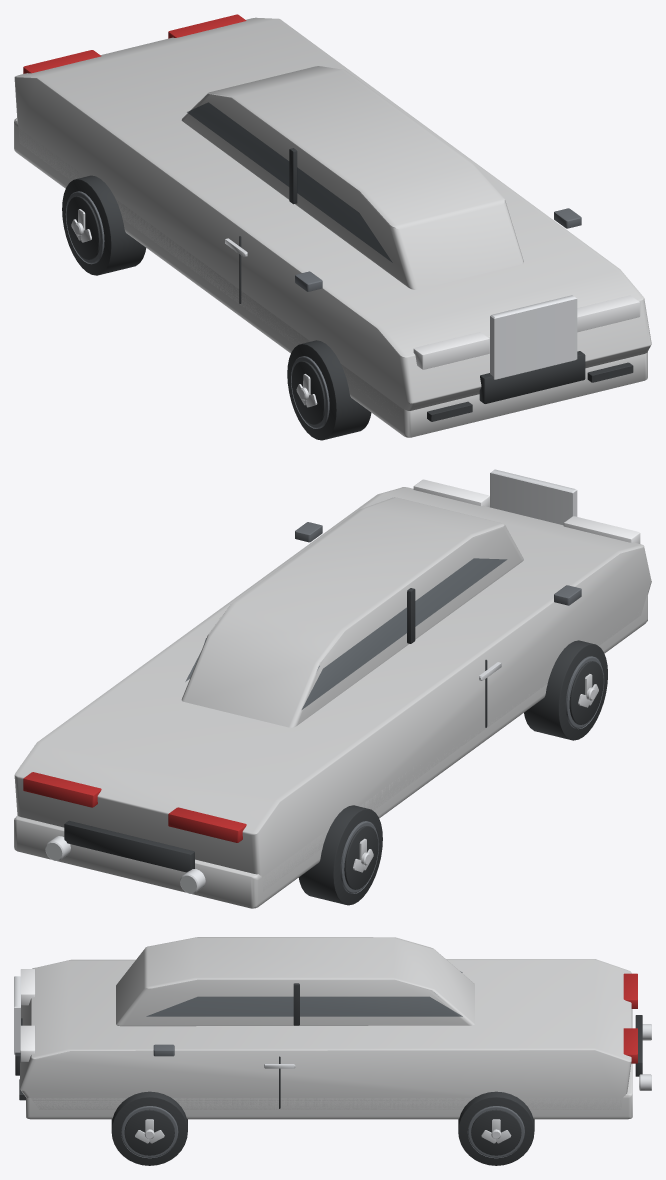
Rendered from crownline-lux.glb.
The picture shows the model from 3 angles, top to bottom: view 1: azimuth 30°, elevation 25°; view 2: azimuth 150°, elevation 25°; view 3: azimuth 270°, elevation 25°; orthographic projection. The views are drawn at different scales.
Visible parts, largest first — view 1: paint, trim, rim, glass, head, accent, tail; view 2: paint, trim, rim, glass, tail, accent, head; view 3: paint, trim, glass, rim, accent, head, tail.
Boxes of the visible parts, left/top/right/bottom form: paint: left=14, top=17, right=651, bottom=437; trim: left=62, top=148, right=633, bottom=440; rim: left=71, top=209, right=577, bottom=407; glass: left=187, top=102, right=392, bottom=262; head: left=413, top=295, right=640, bottom=369; accent: left=65, top=191, right=581, bottom=428; tail: left=23, top=14, right=246, bottom=73; paint: left=14, top=487, right=651, bottom=908; trim: left=64, top=588, right=607, bottom=905; rim: left=45, top=469, right=598, bottom=893; glass: left=185, top=558, right=506, bottom=709; tail: left=23, top=772, right=246, bottom=842; accent: left=295, top=522, right=604, bottom=893; head: left=413, top=479, right=640, bottom=543; paint: left=20, top=937, right=632, bottom=1119; trim: left=15, top=983, right=642, bottom=1165; glass: left=146, top=971, right=462, bottom=1016; rim: left=14, top=976, right=651, bottom=1143; accent: left=121, top=1044, right=524, bottom=1158; head: left=20, top=969, right=35, bottom=1061; tail: left=623, top=973, right=637, bottom=1063.
Bounding box in the file's own units: 2.23 × 1.5 × 5.51.
